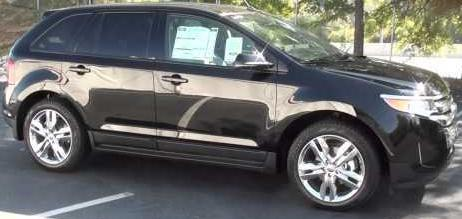backlight: (1, 52, 27, 91)
front_view: (384, 75, 462, 181)
headlight: (376, 91, 451, 123)
side_glass: (75, 10, 274, 77)
